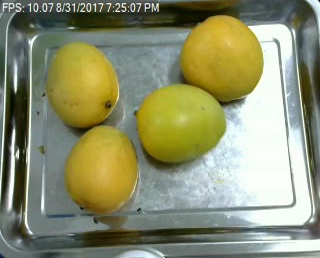Mango: (179, 12, 263, 100), (139, 84, 228, 165), (44, 38, 120, 130), (62, 126, 136, 211)
